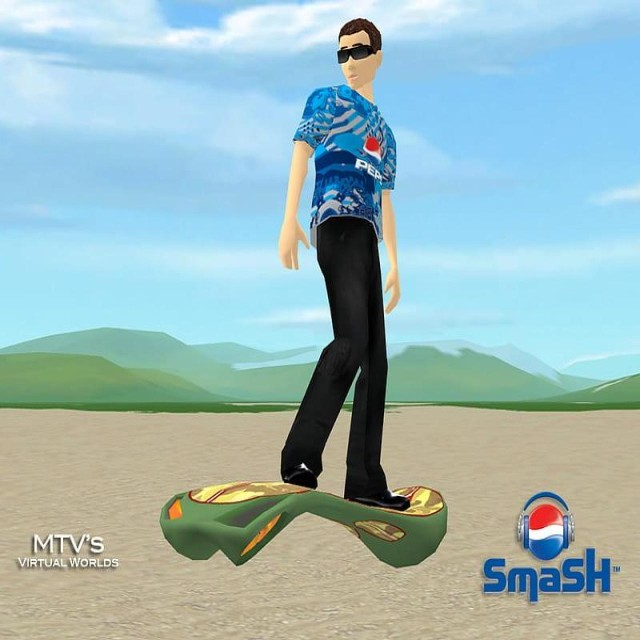pepsi: (525, 505, 570, 563)
